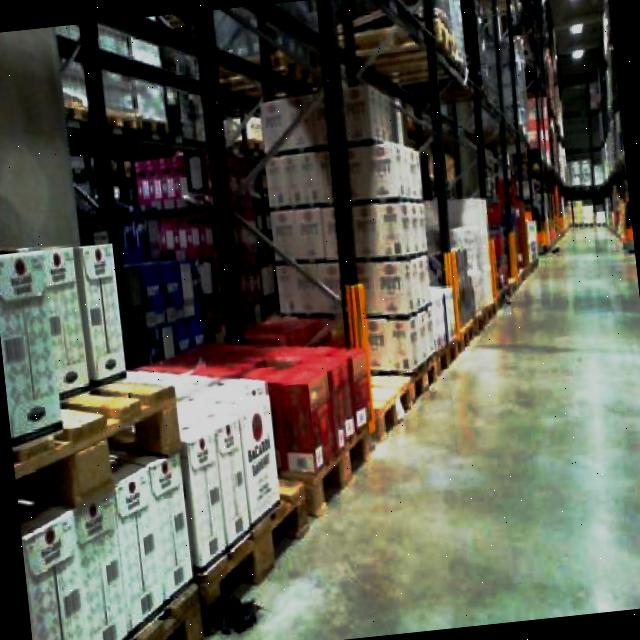ground: (112, 216, 640, 640)
pallet: (1, 306, 404, 640), (5, 371, 205, 640)
